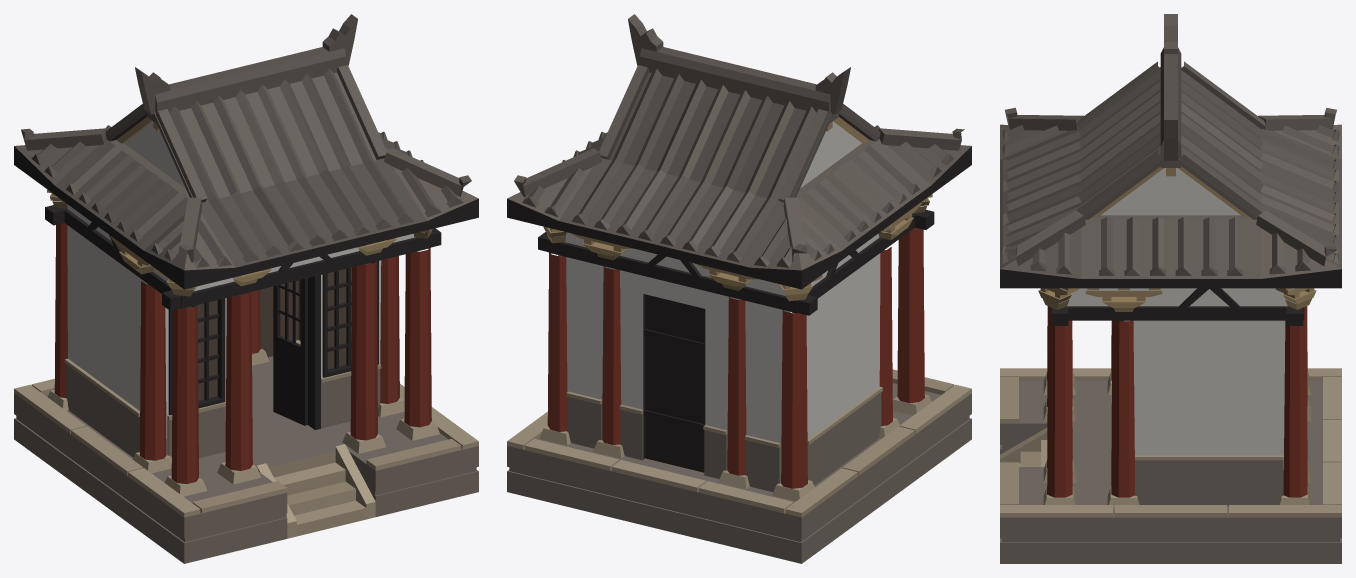
File: ancestral-shrine-de7ed2.glb
3 renders of one model, left to right at view 1: azimuth 30°, elevation 25°; view 2: azimuth 150°, elevation 25°; view 3: azimuth 270°, elevation 25°, orthographic.
Visible parts, largest first — view 1: shrine-body, door-right-mesh; view 2: shrine-body; view 3: shrine-body.
Boxes of the visible parts, x1,y1,x2,y2 form: shrine-body: [14, 14, 478, 563]; door-right-mesh: [273, 278, 307, 425]; shrine-body: [507, 14, 971, 563]; shrine-body: [1000, 14, 1341, 563].
Size of the model in its own units: 4 by 5.49 by 4.
